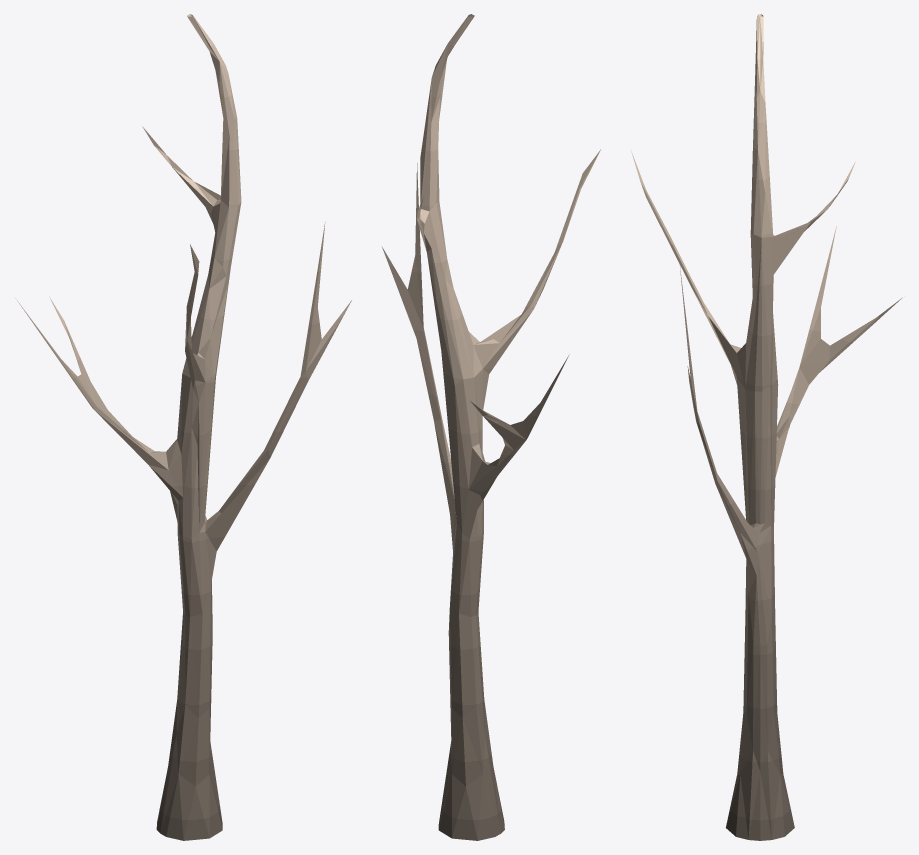
File: Prefab_Foliage_Tree_Birch_Trunk_A.glb
3 views of the same model, side by side, from view 1: azimuth 30°, elevation 25°; view 2: azimuth 150°, elevation 25°; view 3: azimuth 270°, elevation 25° (orthographic).
Visible parts, largest first — view 1: Prefab_Tree_Birch_Trunk_A.001; view 2: Prefab_Tree_Birch_Trunk_A.001; view 3: Prefab_Tree_Birch_Trunk_A.001.
Boxes of the visible parts, bbox=[...] form: Prefab_Tree_Birch_Trunk_A.001: bbox=[15, 14, 351, 840]; Prefab_Tree_Birch_Trunk_A.001: bbox=[381, 14, 600, 840]; Prefab_Tree_Birch_Trunk_A.001: bbox=[630, 14, 902, 840].
Size of the model in its own units: 3.63 by 10.66 by 3.27.
1 material, 1 textured.
